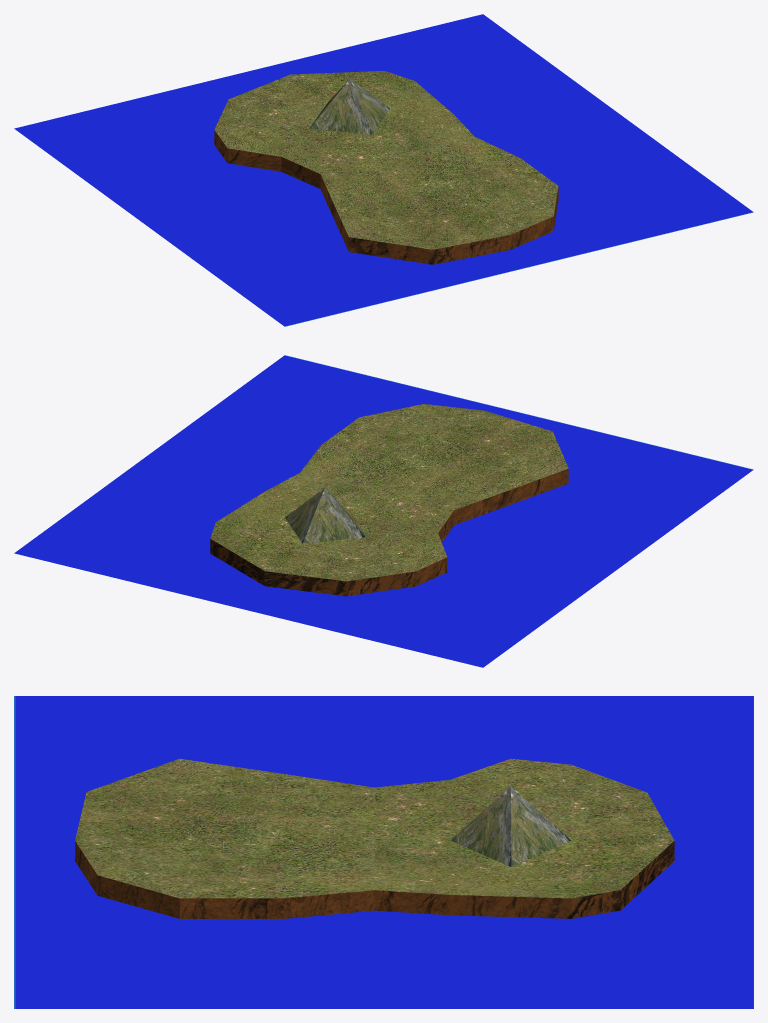
File: Mt_Gusuku.fbx
3 views of the same model, one above another, from view 1: azimuth 30°, elevation 25°; view 2: azimuth 150°, elevation 25°; view 3: azimuth 270°, elevation 25° (orthographic). The views are drawn at different scales.
Visible parts, largest first — view 1: sea, Ieshima, maunten; view 2: sea, Ieshima, maunten; view 3: sea, Ieshima, maunten.
Boxes of the visible parts, box(x1,y1,x2,y2) form: sea: box(14, 14, 753, 326); Ieshima: box(214, 71, 558, 264); maunten: box(309, 79, 389, 134); sea: box(14, 355, 753, 667); Ieshima: box(210, 404, 568, 596); maunten: box(285, 488, 365, 543); sea: box(14, 696, 753, 1008); Ieshima: box(75, 758, 674, 918); maunten: box(450, 786, 570, 866).
Bounding box in the file's own units: 1792 × 211 × 1792.
